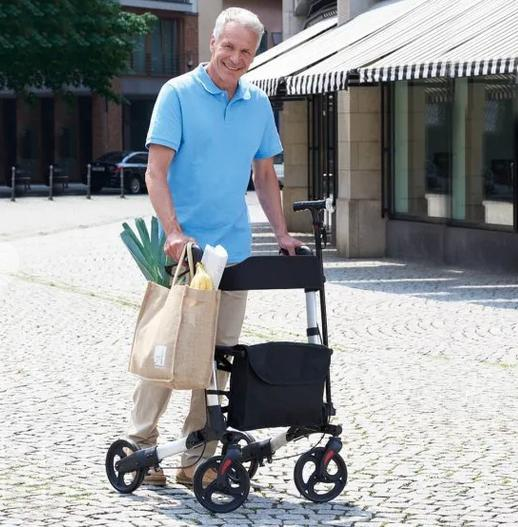walking_frame: (105, 7, 348, 512)
